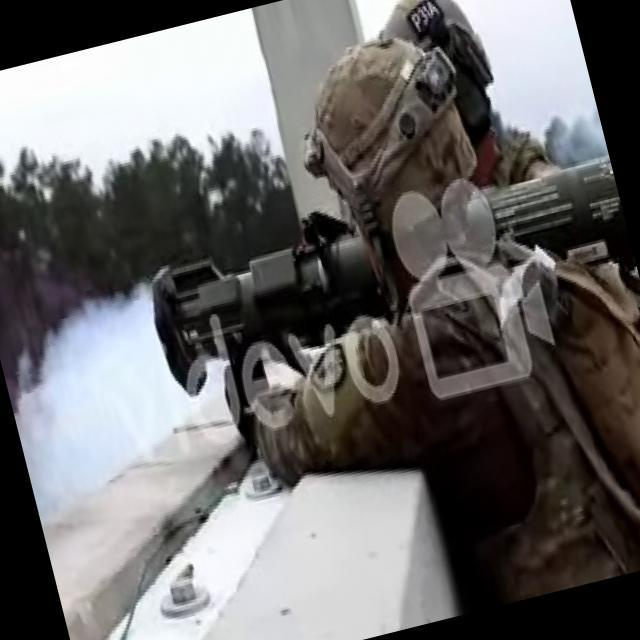rocket: (148, 158, 640, 408)
